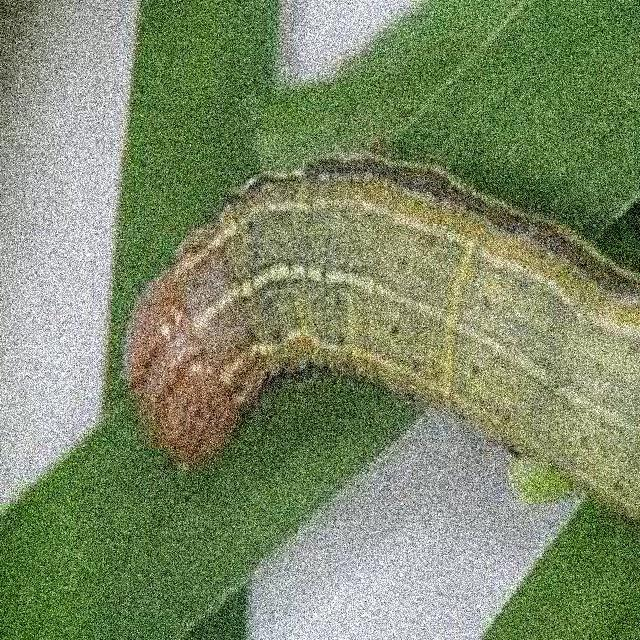Plaga: (116, 135, 640, 524)
